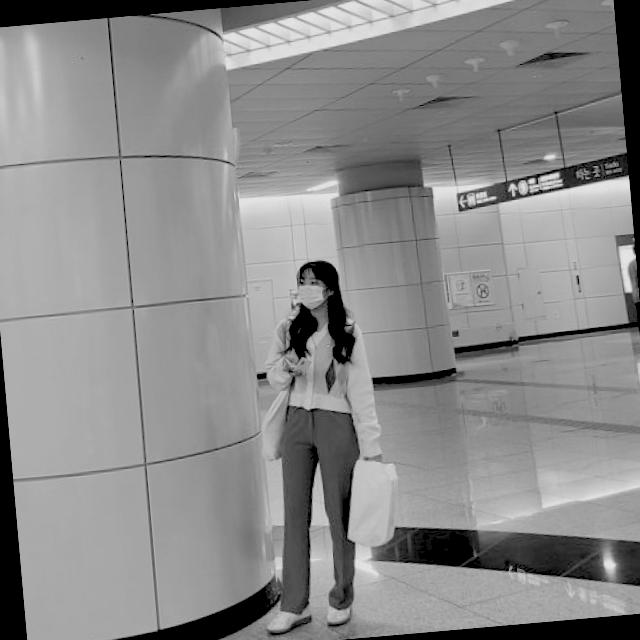cardigan: (260, 306, 384, 467)
slacks: (258, 397, 371, 618)
